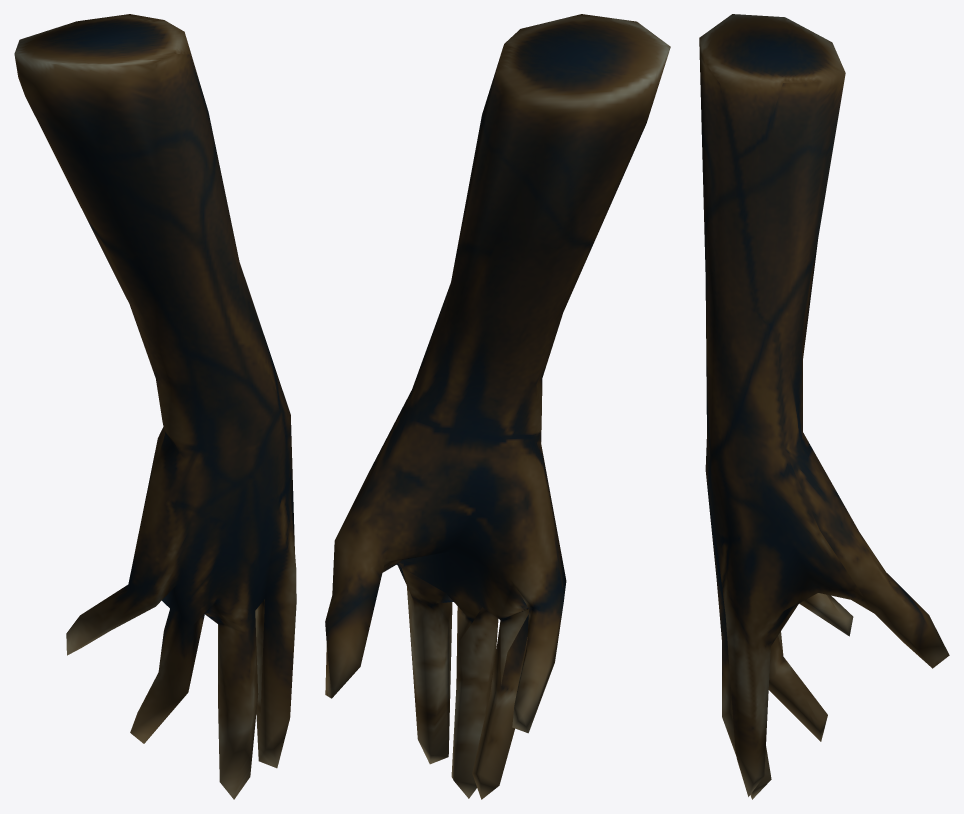
Rendered from hand.obj.
3 renders of one model, left to right at view 1: azimuth 30°, elevation 25°; view 2: azimuth 150°, elevation 25°; view 3: azimuth 270°, elevation 25°, orthographic. The views are drawn at different scales.
Parts seen in each view (by area): view 1: hand; view 2: hand; view 3: hand.
Boxes of the visible parts, left/top/right/bottom form: hand: left=14, top=14, right=296, bottom=799; hand: left=325, top=14, right=670, bottom=799; hand: left=699, top=14, right=949, bottom=799.
Size of the model in its own units: 0.1422 by 0.3916 by 0.1264.
